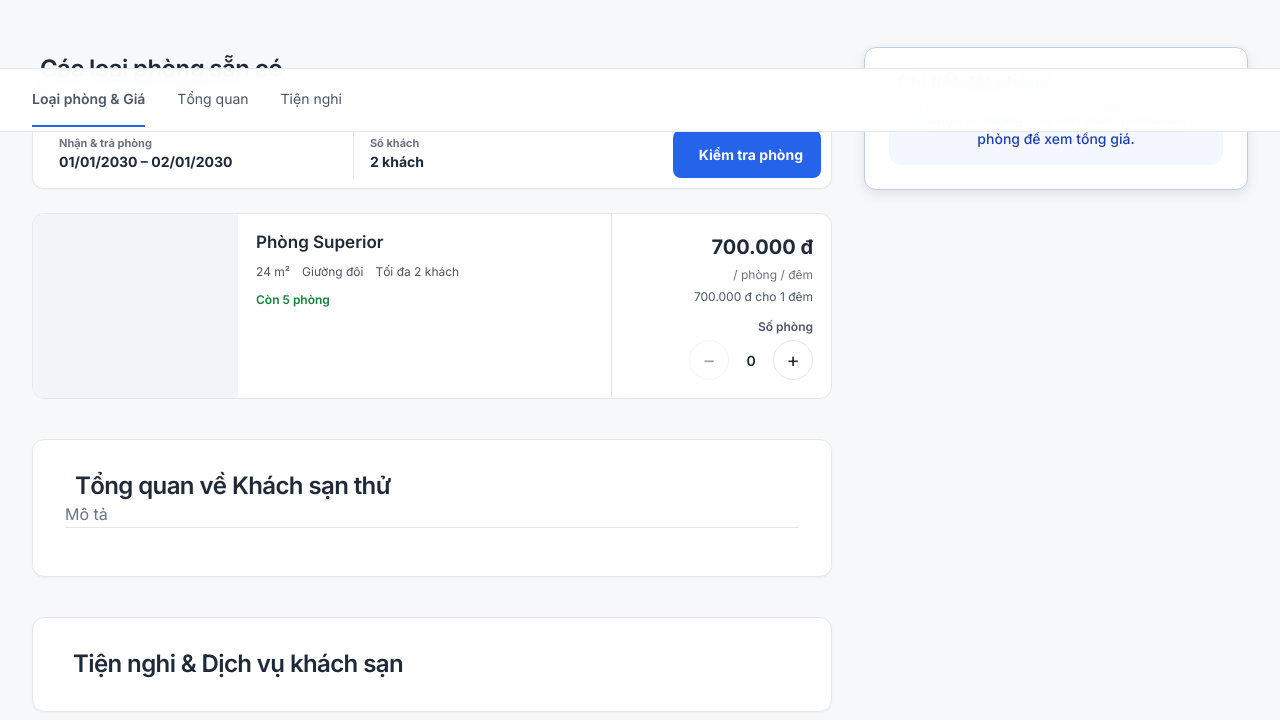
Test: HotelDetailPage price quote › does not send a promo code that is only typed; "Áp dụng" sends it
(page scrolled)
Click the button named "Tăng phòng Phòng Superior".
click(793, 360)  # box left=773, top=340, right=813, bottom=380
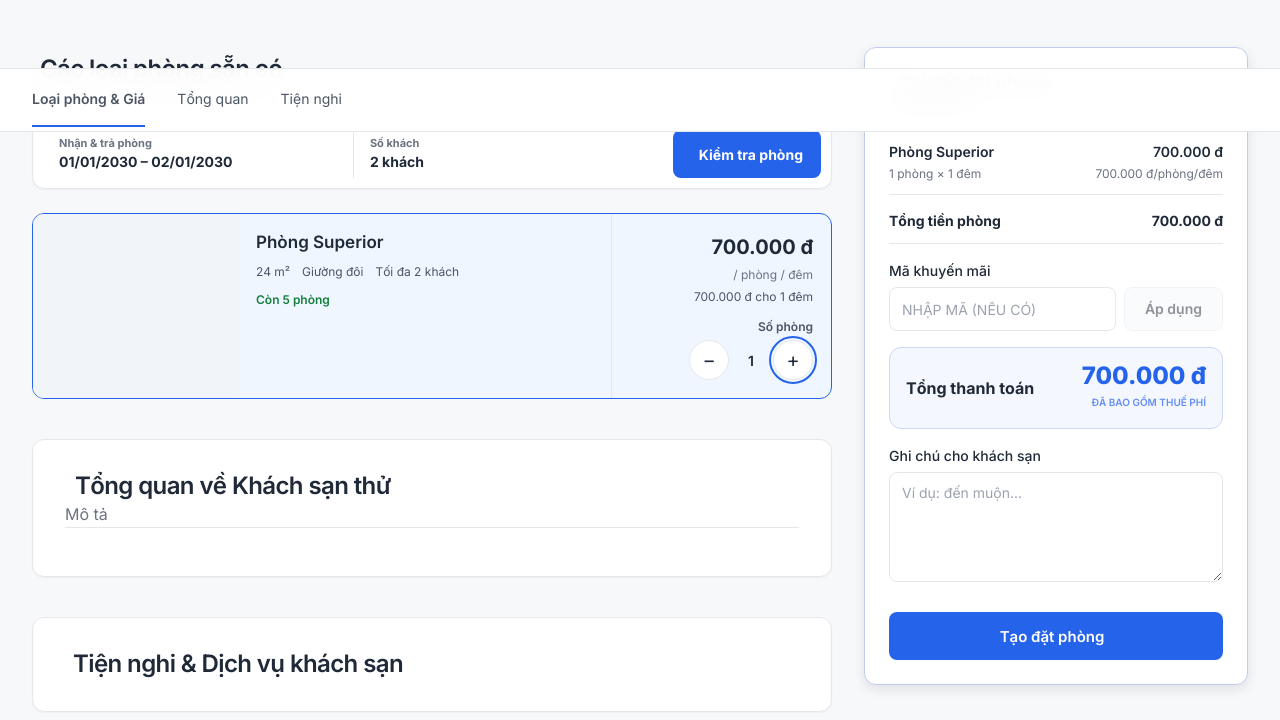
Type "SALE10" into the field with placeholder "Nhập mã (nếu có)".
click(1002, 309); type("SALE10")  # box left=889, top=287, right=1116, bottom=331
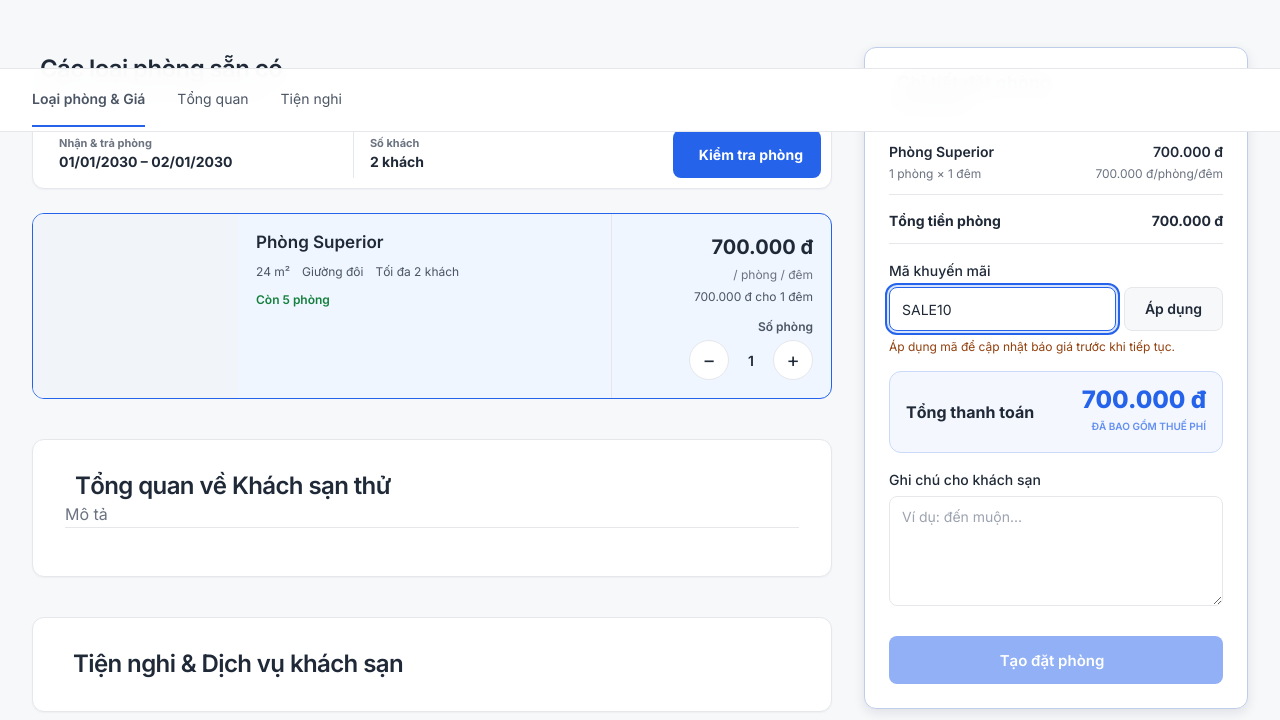
expect the text "Áp dụng mã để cập nhật báo giá trước khi tiếp tục." is shown: met, box left=889, top=339, right=1223, bottom=355
Click the button "Áp dụng".
click(1173, 309)  # box left=1124, top=287, right=1223, bottom=331
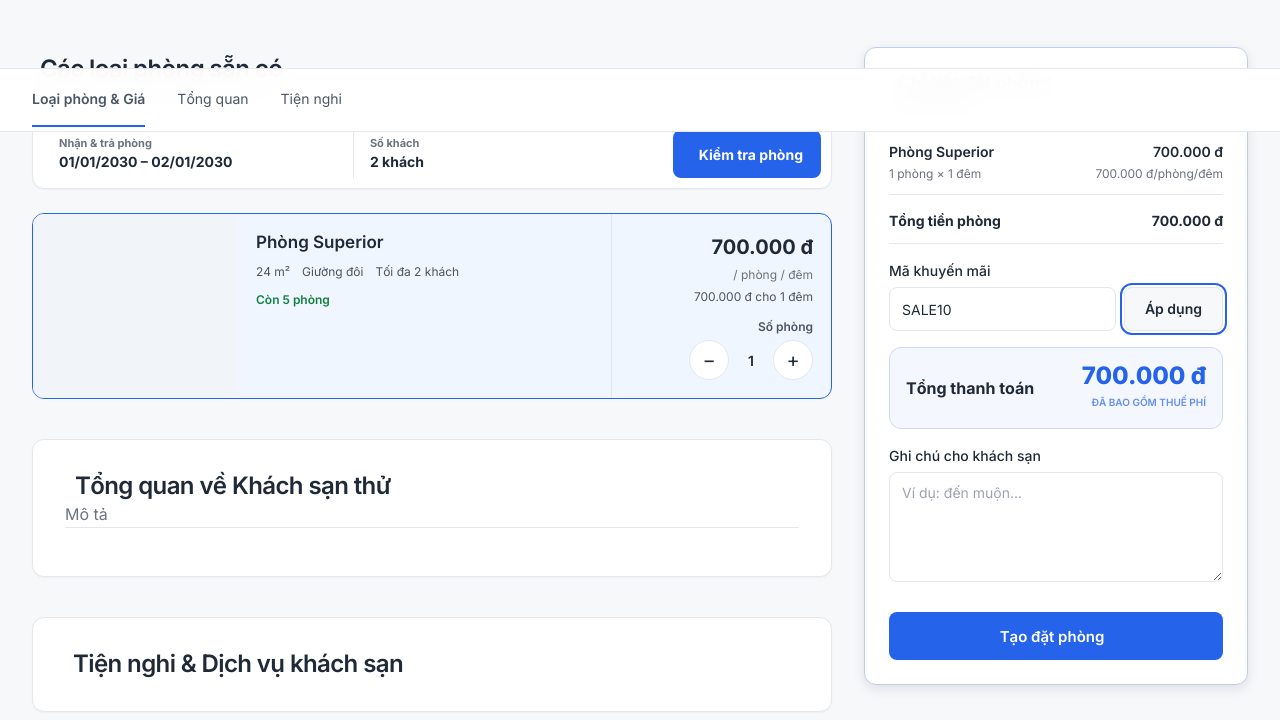
expect the text "Áp dụng mã để cập nhật báo giá trước khi tiếp tục." is gone: met
